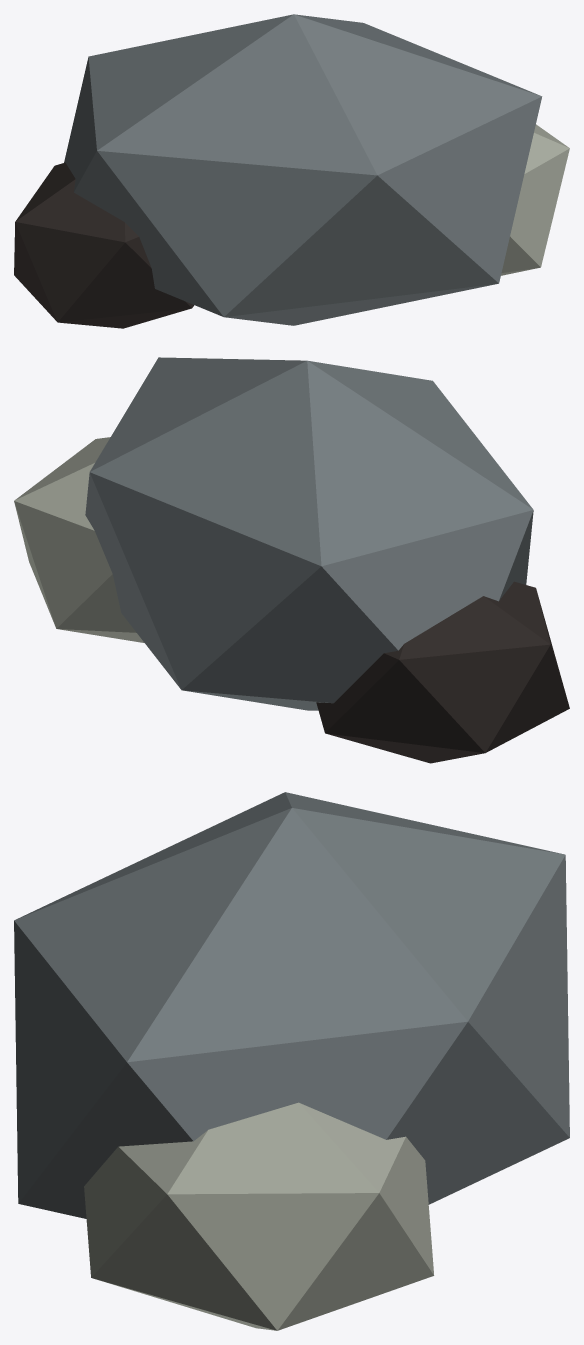
File: Rock_B.fbx
3 views of the same model, one above another, from view 1: azimuth 30°, elevation 25°; view 2: azimuth 150°, elevation 25°; view 3: azimuth 270°, elevation 25° (orthographic). The views are drawn at different scales.
Parts seen in each view (by area): view 1: Rock_B; view 2: Rock_B; view 3: Rock_B.
Part boxes in pixels (x1=…): Rock_B: x1=14, y1=14, x2=569, y2=328; Rock_B: x1=14, y1=357, x2=569, y2=763; Rock_B: x1=14, y1=792, x2=569, y2=1330.
Size of the model in its own units: 0.6841 by 0.4068 by 0.4629.
Materials: 1 (1 with a texture image).
